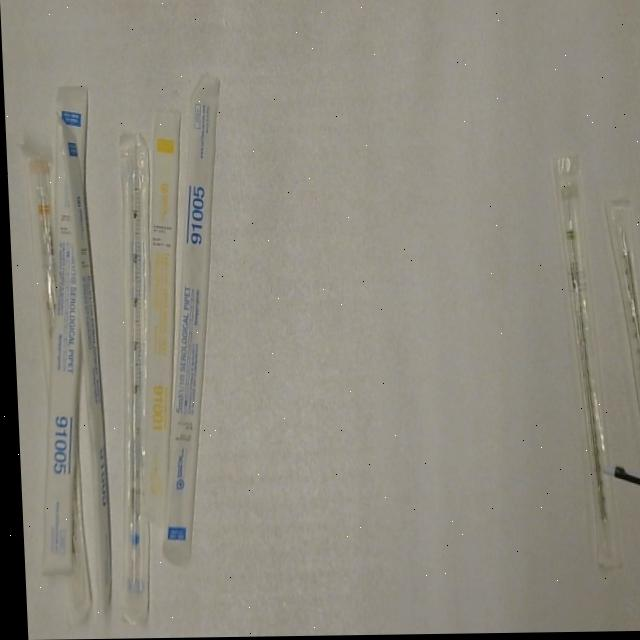Serelogical Pipet 1 mL - Sealed: (123, 106, 198, 526)
Serelogical Pipet 10 mL - Sealed: (23, 151, 70, 392)
Serelogical Pipet 2 mL - Sealed: (547, 150, 623, 576)
Serelogical Pipet 5 mL - Sealed: (138, 74, 239, 567), (20, 82, 107, 579), (94, 129, 166, 628), (56, 115, 114, 621)
